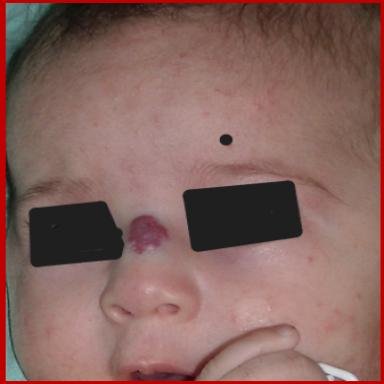Hemangiome: (128, 215, 168, 254)
